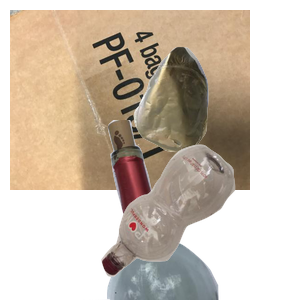cardboard: (10, 10, 250, 190)
glass: (83, 120, 294, 300)
plastic: (99, 142, 300, 300)
trash: (131, 44, 300, 189)
